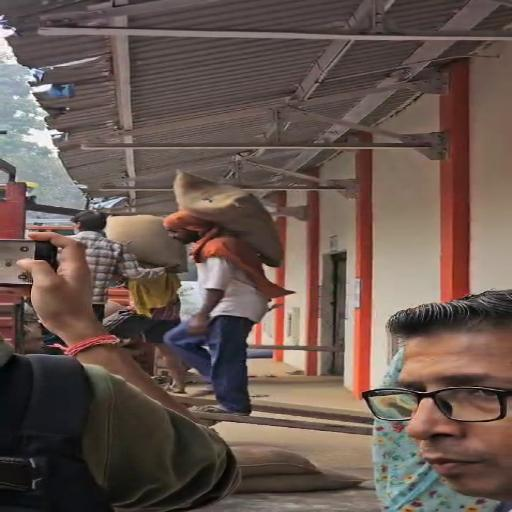bag: (164, 165, 300, 274), (94, 212, 186, 275)
